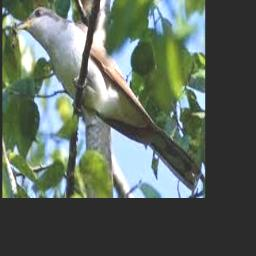Cuckoo: (17, 5, 201, 190)
